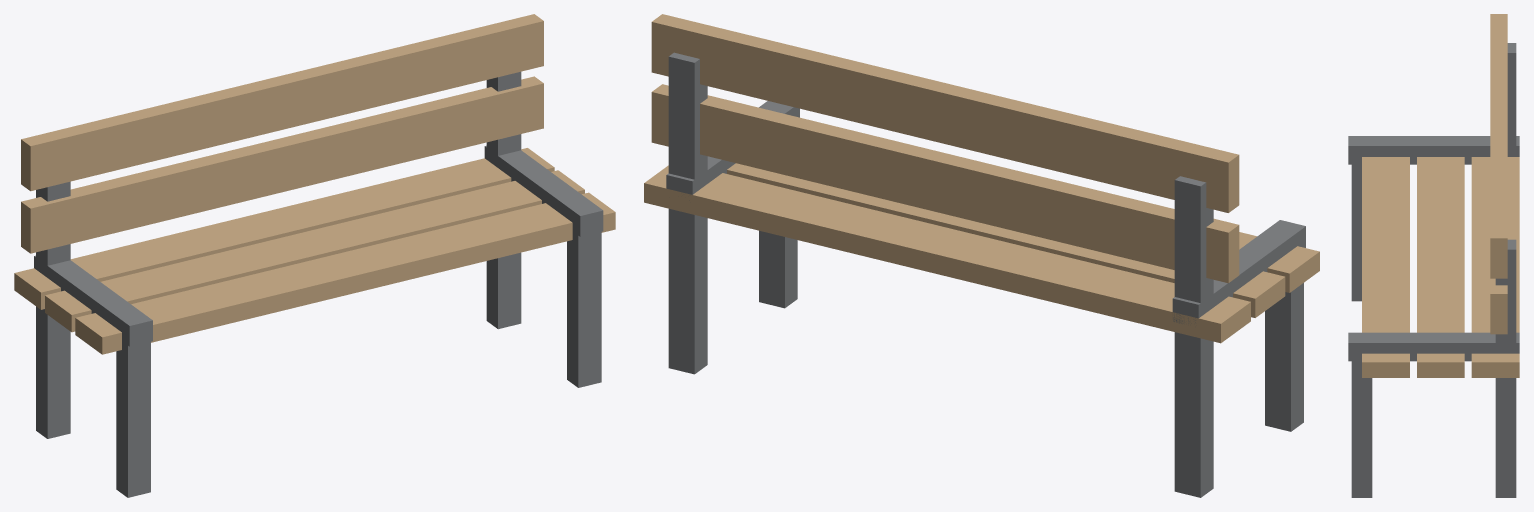
Rendered from banco.glb.
3 views of the same model, side by side, from view 1: azimuth 30°, elevation 25°; view 2: azimuth 150°, elevation 25°; view 3: azimuth 270°, elevation 25° (orthographic). The views are drawn at different scales.
Parts seen in each view (by area): view 1: banco; view 2: banco; view 3: banco.
Boxes of the visible parts, x1=… form: banco: x1=14, y1=14, x2=615, y2=497; banco: x1=644, y1=14, x2=1319, y2=497; banco: x1=1348, y1=14, x2=1519, y2=497.
Size of the model in its own units: 1.55 by 0.865 by 0.5.
